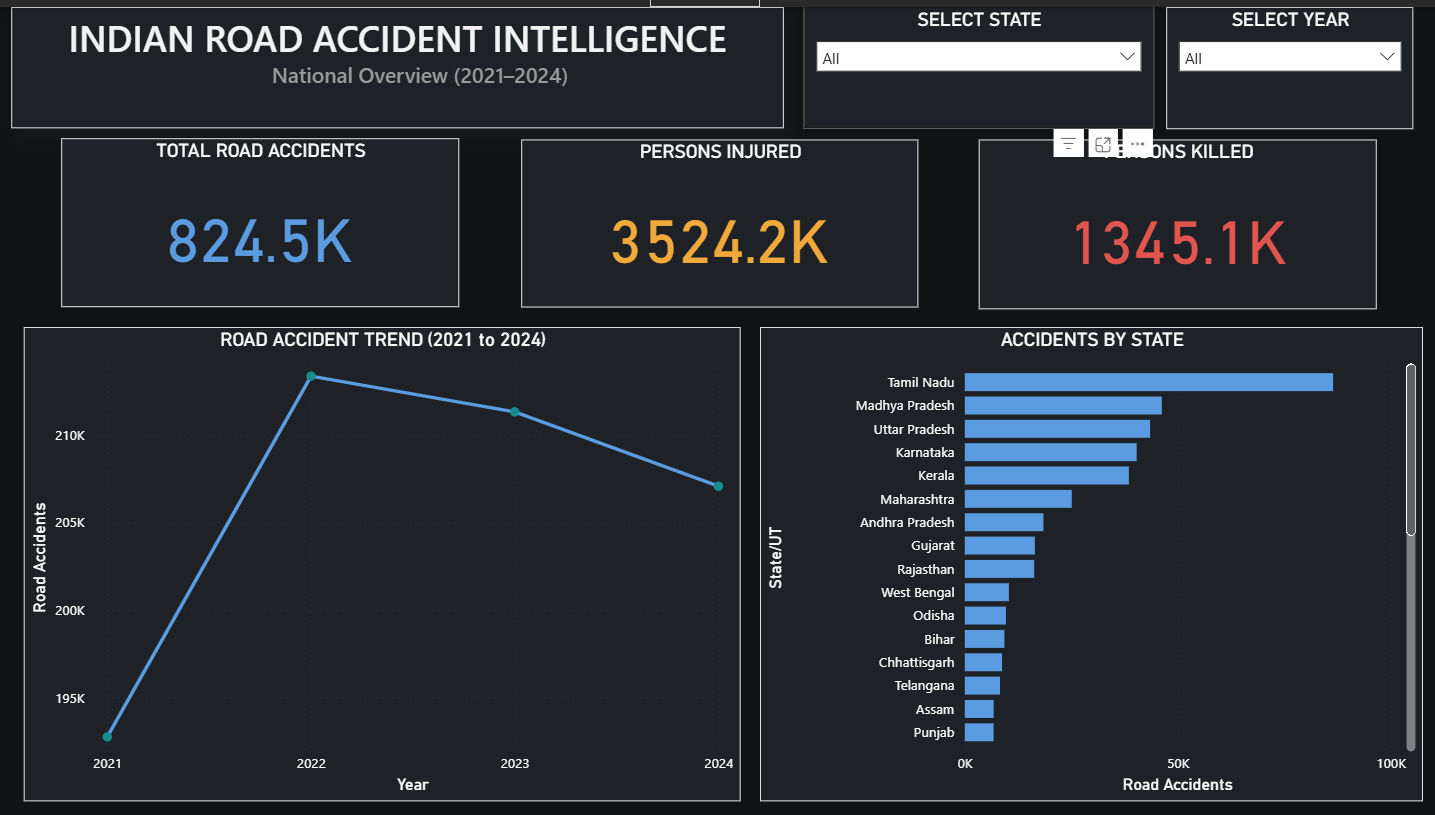

The dashboard page shown, as its layout file describes it:
{"tool":"powerbi","page":{"name":"National Overview","canvas":[1280,720],"ordinal":0},"visuals":[{"type":"textbox","box":[10,0,688.3,108.3],"z":0},{"type":"card","title":"TOTAL ROAD ACCIDENTS","fields":{"Values":["Sum(Road Accidents (2021 - 2024).Accidents)"]},"box":[54.3,117.1,354.3,150],"z":1000},{"type":"card","title":"PERSONS KILLED","fields":{"Values":["Sum(Persons Killed (2021 - 2024).Persons Killed)"]},"box":[871.2,117.8,354.6,150.9],"z":2000},{"type":"card","title":"PERSONS INJURED","fields":{"Values":["Sum(Persons Injured (2021 - 2024).Persons Injured)"]},"box":[463.8,117.8,353.4,149.7],"z":3000},{"type":"slicer","title":"SELECT YEAR","fields":{"Values":["Year Master.Year"]},"box":[1038.6,0,220,108.6],"z":4000},{"type":"lineChart","title":"ROAD ACCIDENT TREND (2021 to 2024)","fields":{"Category":["Road Accidents (2021 - 2024).Year"],"Y":["Sum(Road Accidents (2021 - 2024).Accidents)"]},"box":[20.9,284.7,638,422.1],"z":5000},{"type":"clusteredBarChart","title":"ACCIDENTS BY STATE","fields":{"Category":["State Master.State/UT"],"Y":["Sum(Road Accidents (2021 - 2024).Accidents)"]},"box":[677.3,284.7,590.2,422.1],"z":6000},{"type":"slicer","title":"SELECT STATE","fields":{"Values":["State Master.State/UT"]},"box":[715.3,0,311.7,108],"z":7000}]}

Visuals, with their boxes in screenshot pixels (x1, y1, x2, y2), scaled from the page's 1280x720 canvas onto the 1435x815 screenshot:
textbox: box=[11, 0, 783, 123]
"TOTAL ROAD ACCIDENTS" card: box=[61, 133, 458, 302]
"PERSONS KILLED" card: box=[977, 133, 1374, 304]
"PERSONS INJURED" card: box=[520, 133, 916, 303]
"SELECT YEAR" slicer: box=[1164, 0, 1411, 123]
"ROAD ACCIDENT TREND (2021 to 2024)" lineChart: box=[23, 322, 739, 800]
"ACCIDENTS BY STATE" clusteredBarChart: box=[759, 322, 1421, 800]
"SELECT STATE" slicer: box=[802, 0, 1151, 122]
